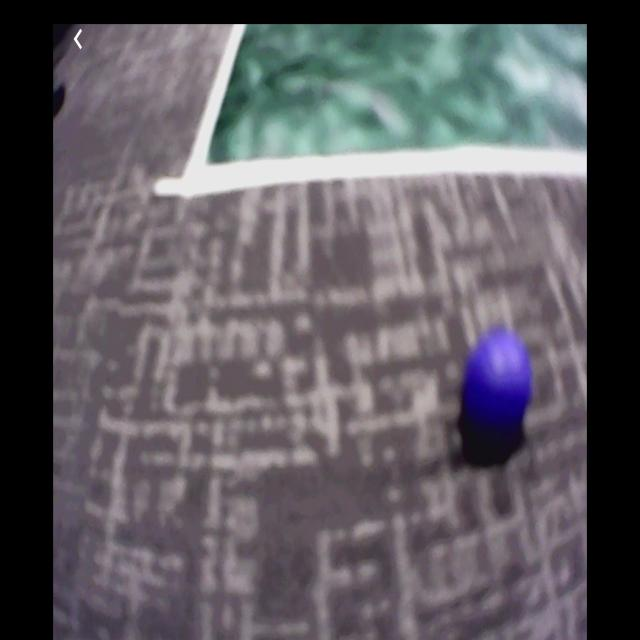ball: (465, 329, 533, 436)
